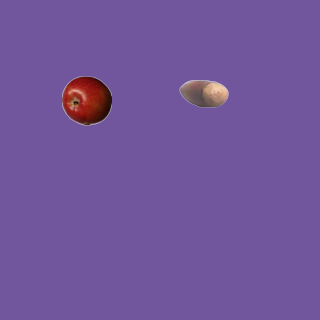Apple Braeburn: (61, 75, 111, 125)
Hazelnut: (178, 68, 228, 118)
